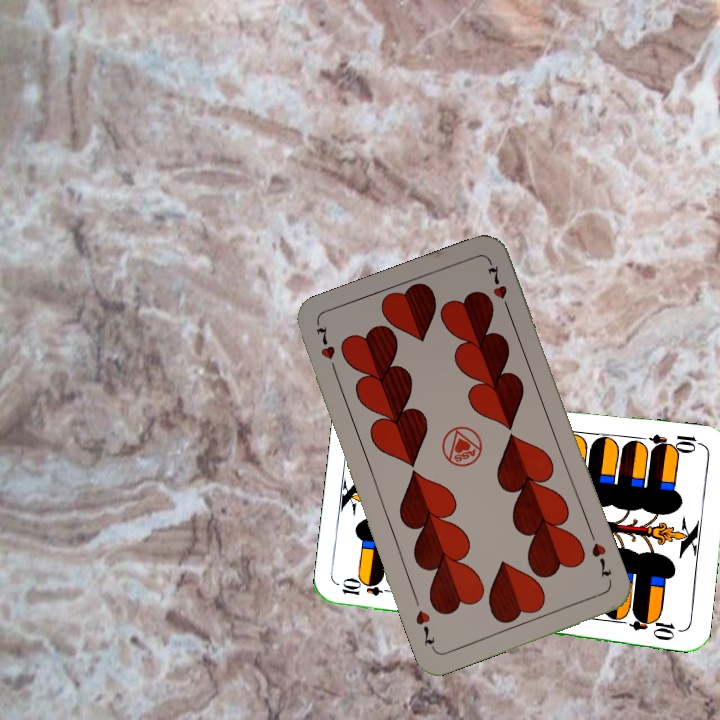E10: (646, 430, 705, 456), (337, 578, 397, 599)
H7: (312, 320, 340, 378), (587, 539, 615, 580)
